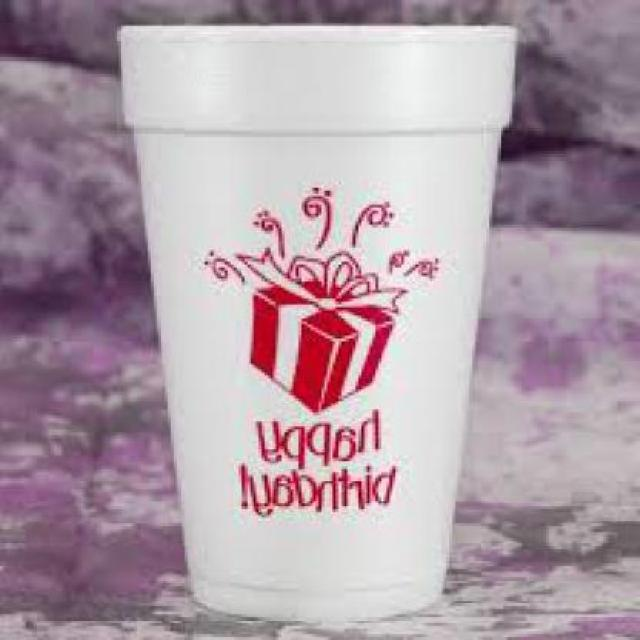PAPER: (120, 20, 520, 617)
